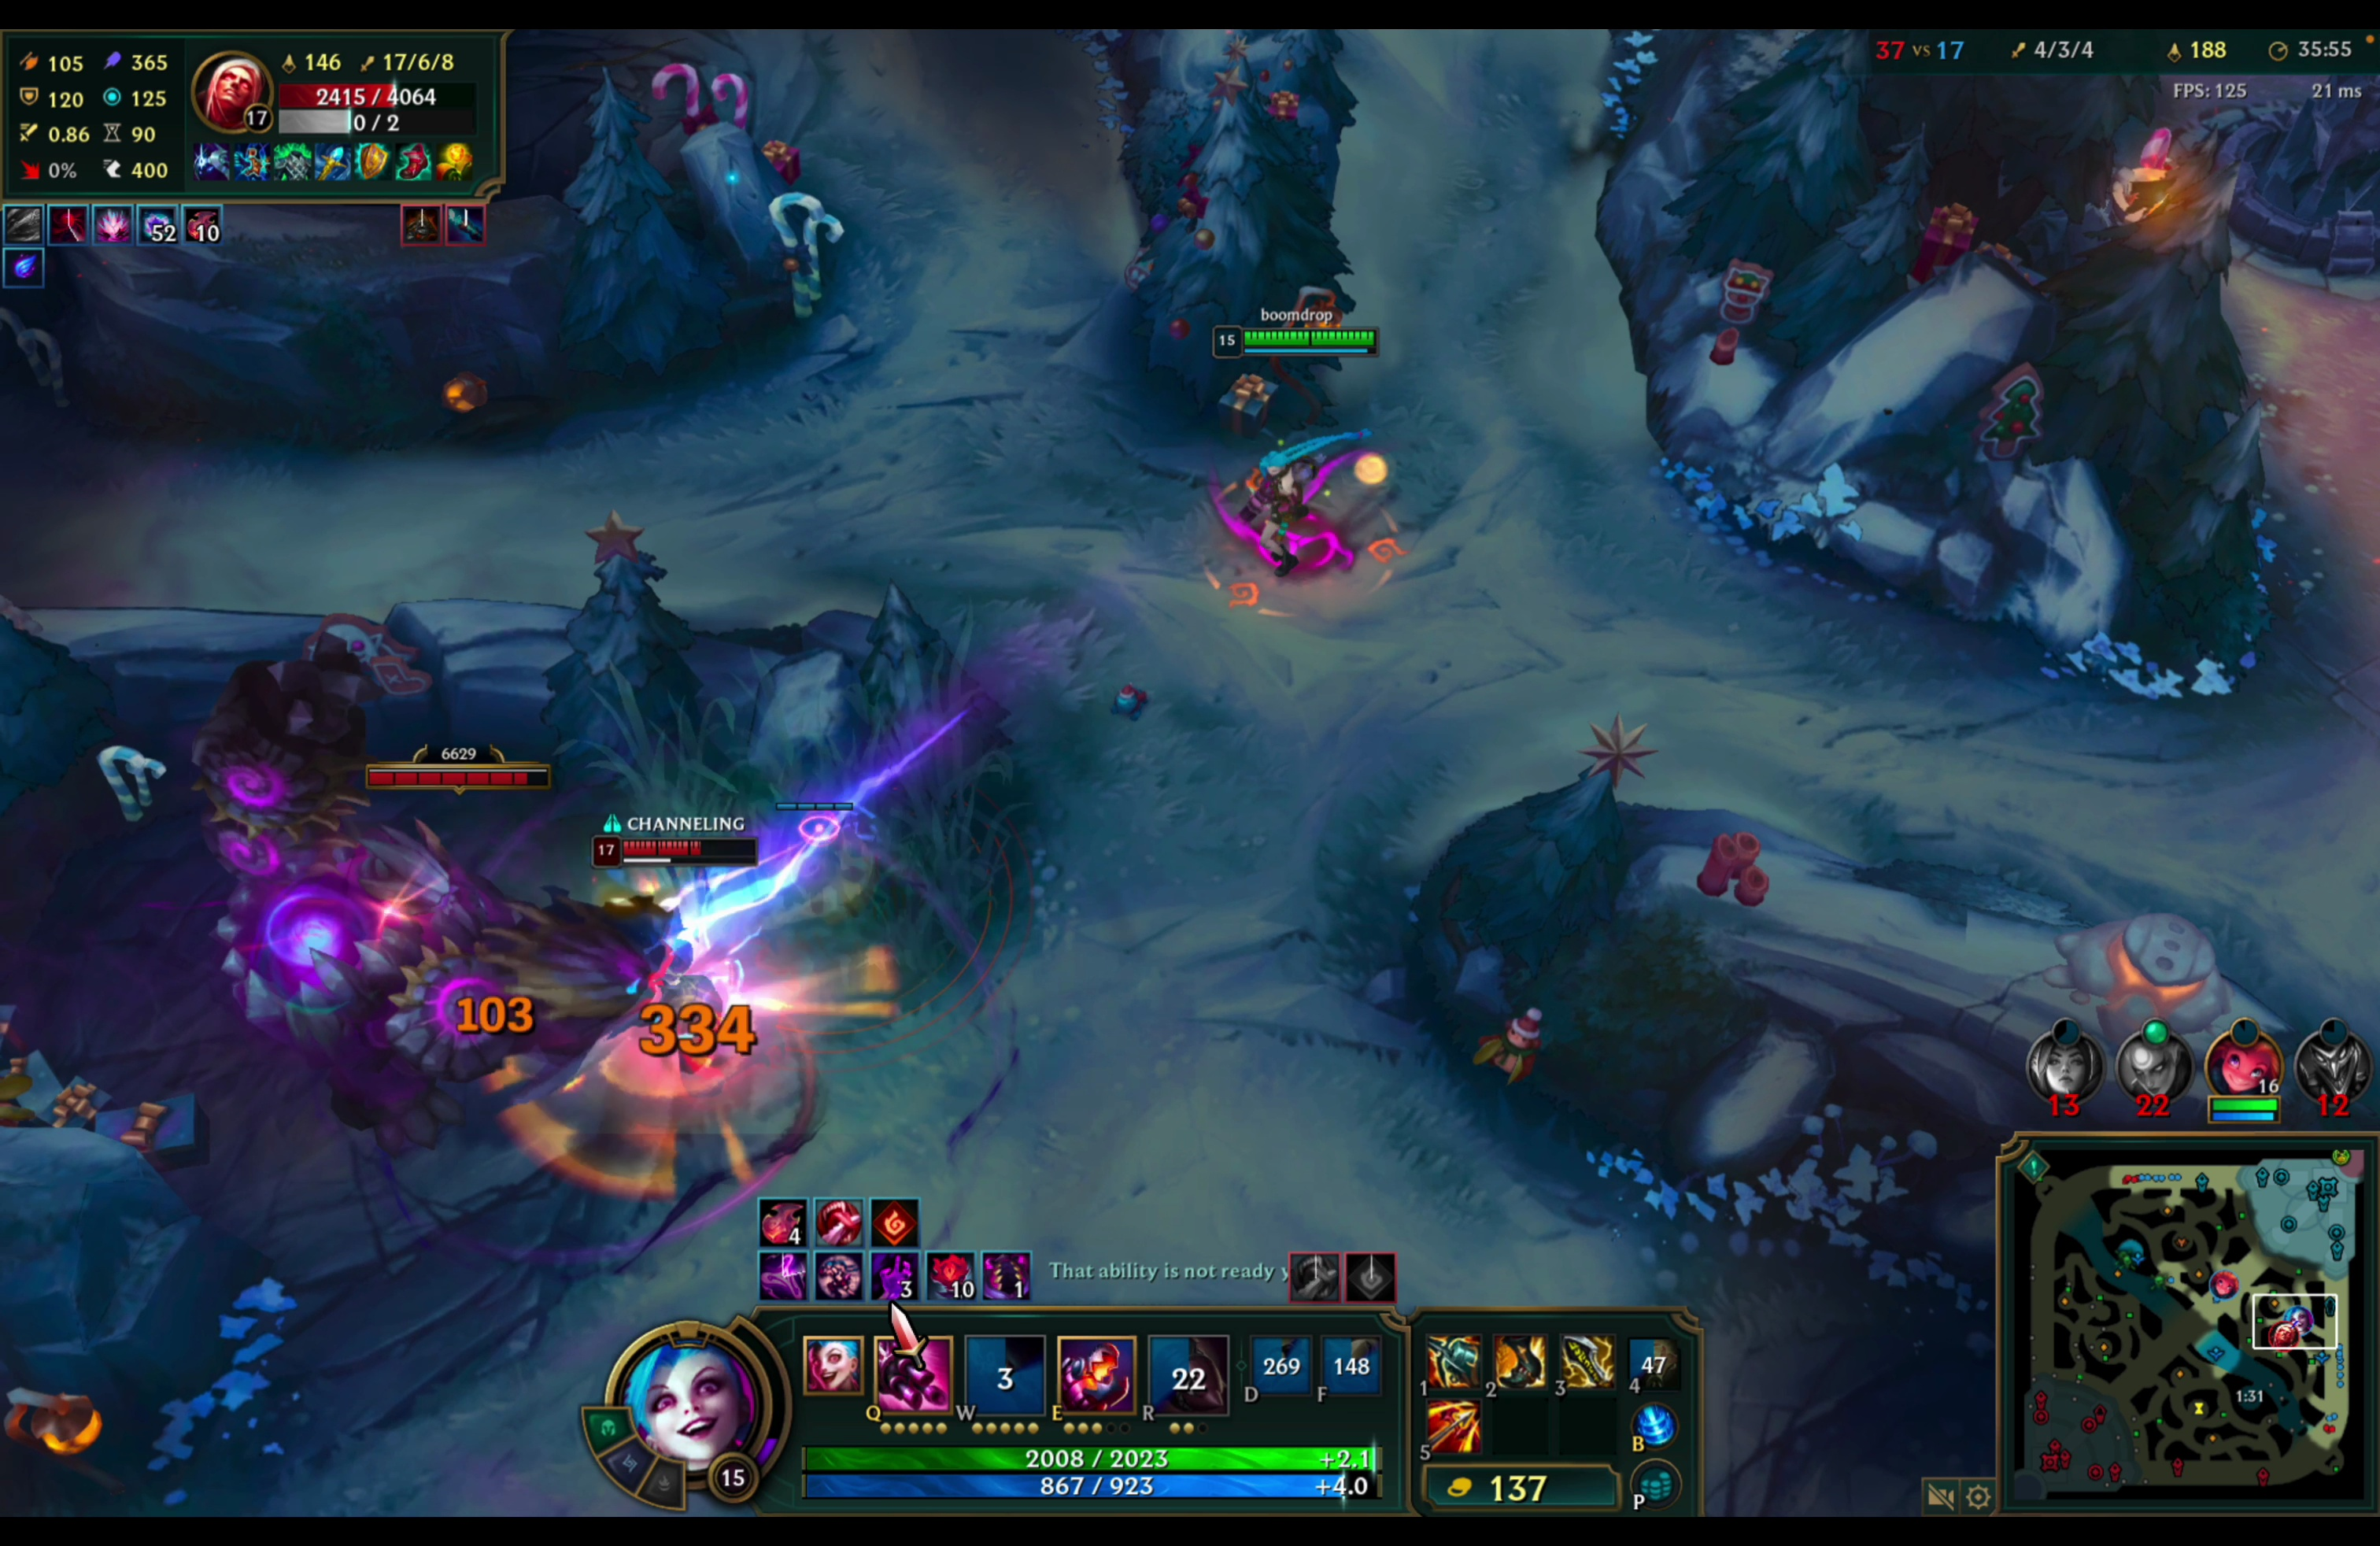JINX_W_PROJECTILE: (637, 298, 1435, 992)
